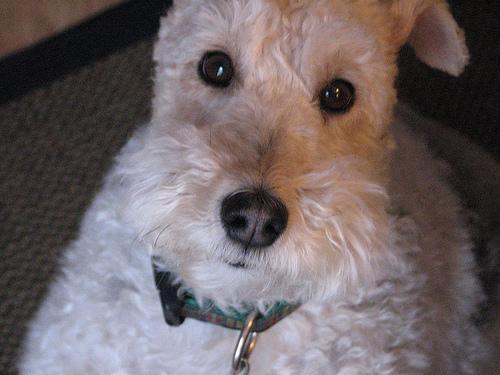wire-haired_fox_terrier: (4, 0, 499, 374)
